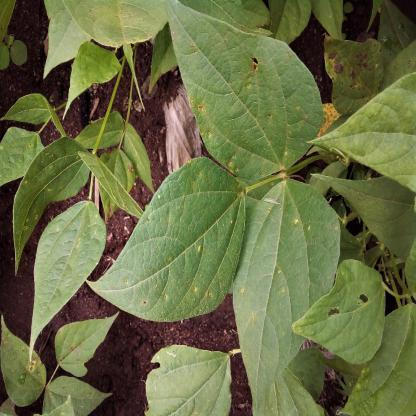Beans_Rust: (176, 13, 324, 182), (233, 184, 340, 390), (126, 146, 240, 320), (12, 127, 88, 261), (345, 300, 416, 416), (319, 32, 404, 118), (0, 331, 48, 403)
